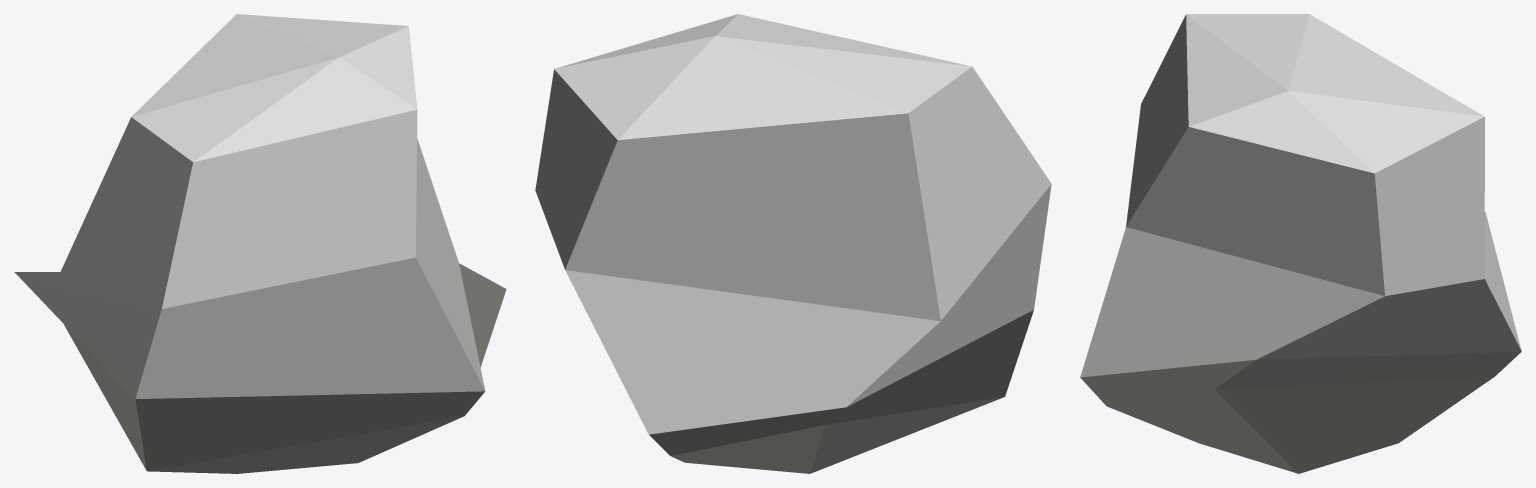
Rendered from piedra4contextura.fbx.
3 renders of one model, left to right at view 1: azimuth 30°, elevation 25°; view 2: azimuth 150°, elevation 25°; view 3: azimuth 270°, elevation 25°, orthographic. The views are drawn at different scales.
Parts seen in each view (by area): view 1: pSphere1; view 2: pSphere1; view 3: pSphere1.
Part boxes in pixels (left/top/right/bottom): pSphere1: left=14, top=14, right=506, bottom=473; pSphere1: left=535, top=14, right=1051, bottom=473; pSphere1: left=1080, top=14, right=1521, bottom=473.
Size of the model in its own units: 31.71 by 30.49 by 31.52.
Materials: 1 (1 with a texture image).
